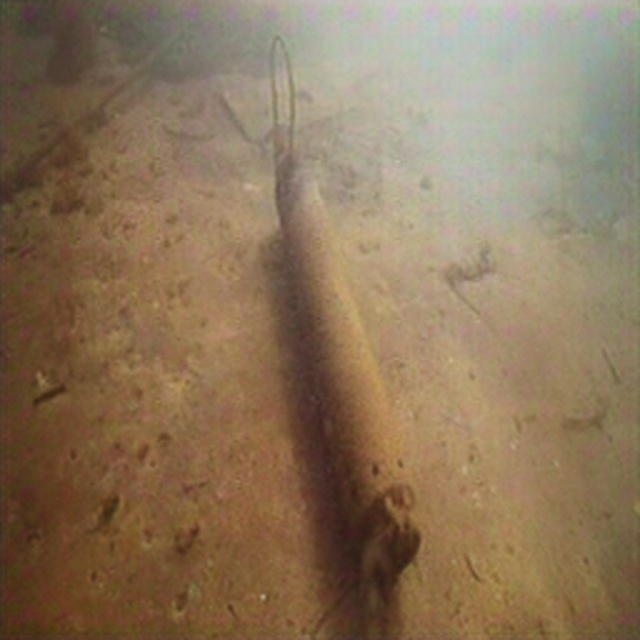mine: (270, 148, 424, 591)
